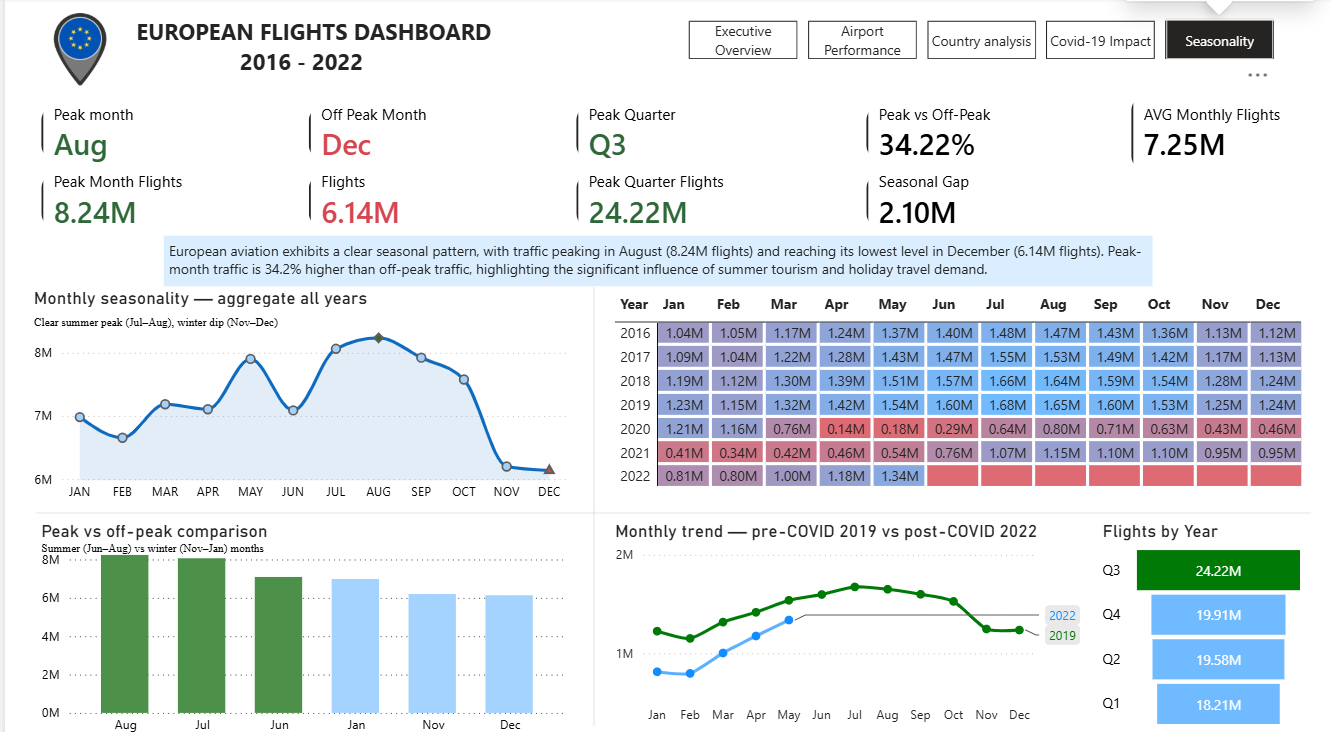

The page's visual inventory and layout, read from the dashboard file:
{"tool":"powerbi","page":{"name":"Seasonality","canvas":[1280,720],"ordinal":4},"visuals":[{"type":"cardVisual","fields":{"Data":["All Measures.Peak month","All Measures.Peak Month Flights"]},"box":[30.1,97.8,183.1,132.9],"z":0},{"type":"textbox","box":[122.3,13.5,360.7,92.9],"z":1000},{"type":"image","box":[23.2,13.5,99,74.6],"z":2000},{"type":"cardVisual","fields":{"Data":["All Measures.Off Peak Month","All Measures.Off Peak Month Flights"]},"box":[288.4,97.8,213.2,132.9],"z":3000},{"type":"cardVisual","fields":{"Data":["All Measures.Peak Quarter","All Measures.Peak Quarter Flights"]},"box":[546.7,97.8,205.6,132.9],"z":4000},{"type":"pageNavigator","box":[659.9,22.9,567,37.4],"z":5000},{"type":"actionButton","box":[658.7,22.9,106.2,39.8],"z":6000},{"type":"actionButton","box":[778.2,20.5,103.8,39.8],"z":7000},{"type":"actionButton","box":[1086.8,20.6,140,39.8],"z":9000},{"type":"actionButton","box":[891.6,22.9,103.8,39.8],"z":10000},{"type":"actionButton","box":[1002.6,20.5,103.8,39.8],"z":11000},{"type":"actionButton","box":[1120.8,20.5,103.8,39.8],"z":12000},{"type":"cardVisual","fields":{"Data":["All Measures.Peak vs Off-Peak","All Measures.Seasonal Gap"]},"box":[826.3,97.8,176.8,132.9],"z":13000},{"type":"cardVisual","fields":{"Data":["All Measures.AVG Monthly Flights"]},"box":[1082.1,87.8,178.1,87.8],"z":14000},{"type":"lineChart","title":"Monthly seasonality — aggregate all years","fields":{"Y":["All Measures.Total Flights"],"Category":["European Flights.MONTH_MON"]},"box":[22.6,279.6,524.1,215.7],"z":15000},{"type":"textbox","box":[22.9,298,279.9,30.2],"z":16000},{"type":"clusteredColumnChart","title":"Peak vs off-peak comparison","fields":{"Y":["All Measures.Total Flights"],"Category":["Custom_calender.Month name"]},"box":[30.1,505.3,516.6,215.7],"z":17000},{"type":"textbox","box":[30.2,516,279.9,30.2],"z":18000},{"type":"pivotTable","title":"flights by year and month","fields":{"Rows":["Custom_calender.Year"],"Columns":["Custom_calender.Month name"],"Values":["All Measures.Total Flights"]},"box":[584.3,279.6,675.9,211.9],"z":19000},{"type":"areaChart","title":"Monthly trend — pre-COVID 2019 vs post-COVID 2022","fields":{"Y":["All Measures.Total Flights"],"Category":["Custom_calender.Month name"],"Series":["Custom_calender.Year"]},"box":[584.3,505.3,458.9,205.6],"z":20000},{"type":"funnel","title":" Flights by Year","fields":{"Y":["All Measures.Total Flights"],"Category":["Custom_calender.Quarter"]},"box":[1054.5,505.3,205.6,205.6],"z":21000},{"type":"textbox","box":[153,230.7,954.2,48.9],"z":22000},{"type":"shape","box":[546.7,279.6,43.9,423.8],"z":23000},{"type":"shape","box":[30.1,491.5,539.2,13.8],"z":24000},{"type":"shape","box":[569.3,491.5,690.9,13.8],"z":25000}]}

Visuals, with their boxes in screenshot pixels (x1, y1, x2, y2), scaled from the page's 1280x720 canvas onto the 1331x732 screenshot:
cardVisual - All Measures.Peak month x All Measures.Peak Month Flights: [31, 99, 222, 235]
textbox: [127, 14, 502, 108]
image: [24, 14, 127, 90]
cardVisual - All Measures.Off Peak Month x All Measures.Off Peak Month Flights: [300, 99, 522, 235]
cardVisual - All Measures.Peak Quarter x All Measures.Peak Quarter Flights: [568, 99, 782, 235]
pageNavigator: [686, 23, 1276, 61]
actionButton: [685, 23, 795, 64]
actionButton: [809, 21, 917, 61]
actionButton: [1130, 21, 1276, 61]
actionButton: [927, 23, 1035, 64]
actionButton: [1043, 21, 1150, 61]
actionButton: [1165, 21, 1273, 61]
cardVisual - All Measures.Peak vs Off-Peak x All Measures.Seasonal Gap: [859, 99, 1043, 235]
cardVisual - All Measures.AVG Monthly Flights: [1125, 89, 1310, 179]
"Monthly seasonality — aggregate all years" lineChart: [24, 284, 568, 504]
textbox: [24, 303, 315, 334]
"Peak vs off-peak comparison" clusteredColumnChart: [31, 514, 568, 731]
textbox: [31, 525, 322, 555]
"flights by year and month" pivotTable: [608, 284, 1310, 500]
"Monthly trend — pre-COVID 2019 vs post-COVID 2022" areaChart: [608, 514, 1085, 723]
" Flights by Year" funnel: [1097, 514, 1310, 723]
textbox: [159, 235, 1151, 284]
shape: [568, 284, 614, 715]
shape: [31, 500, 592, 514]
shape: [592, 500, 1310, 514]
